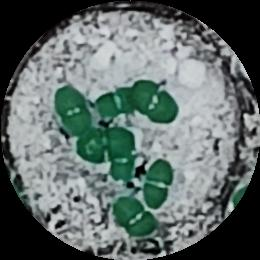Basil: (74, 129, 137, 165), (129, 82, 180, 124), (114, 191, 156, 238), (89, 85, 140, 123), (55, 88, 93, 134), (142, 160, 173, 209)
